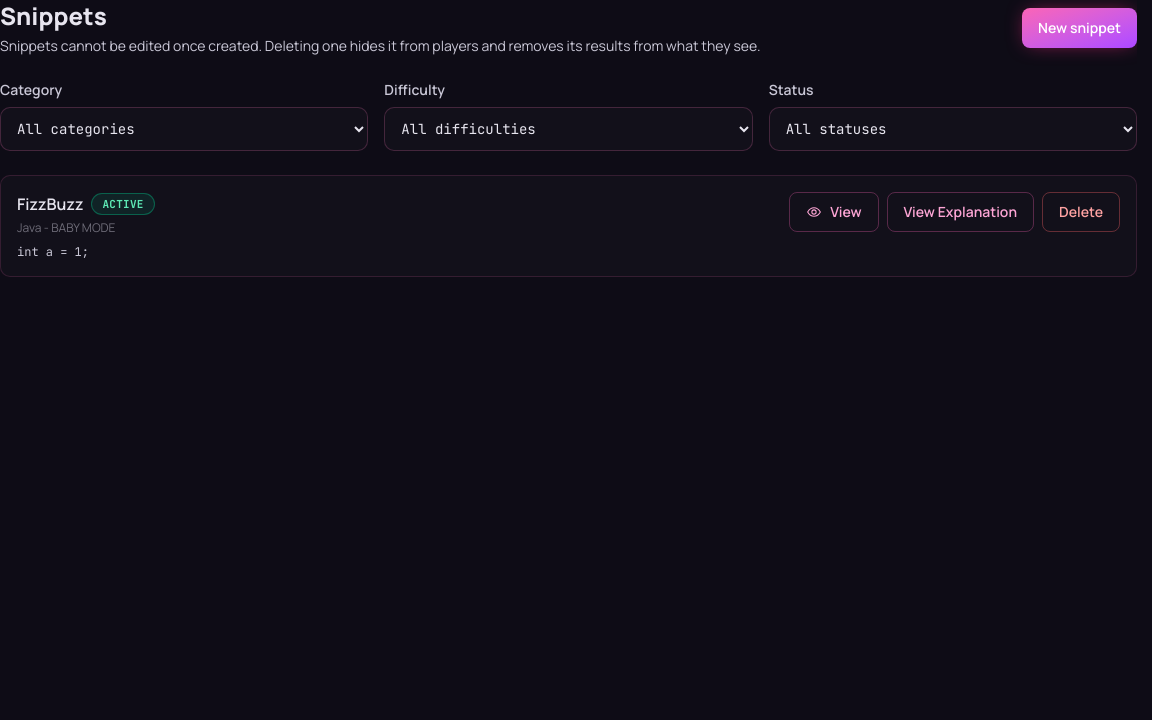
SnippetsPage › reports a delete rejected by the backend
Click the button "Delete" at coordinates (1081, 212), box [1042,192,1120,232]
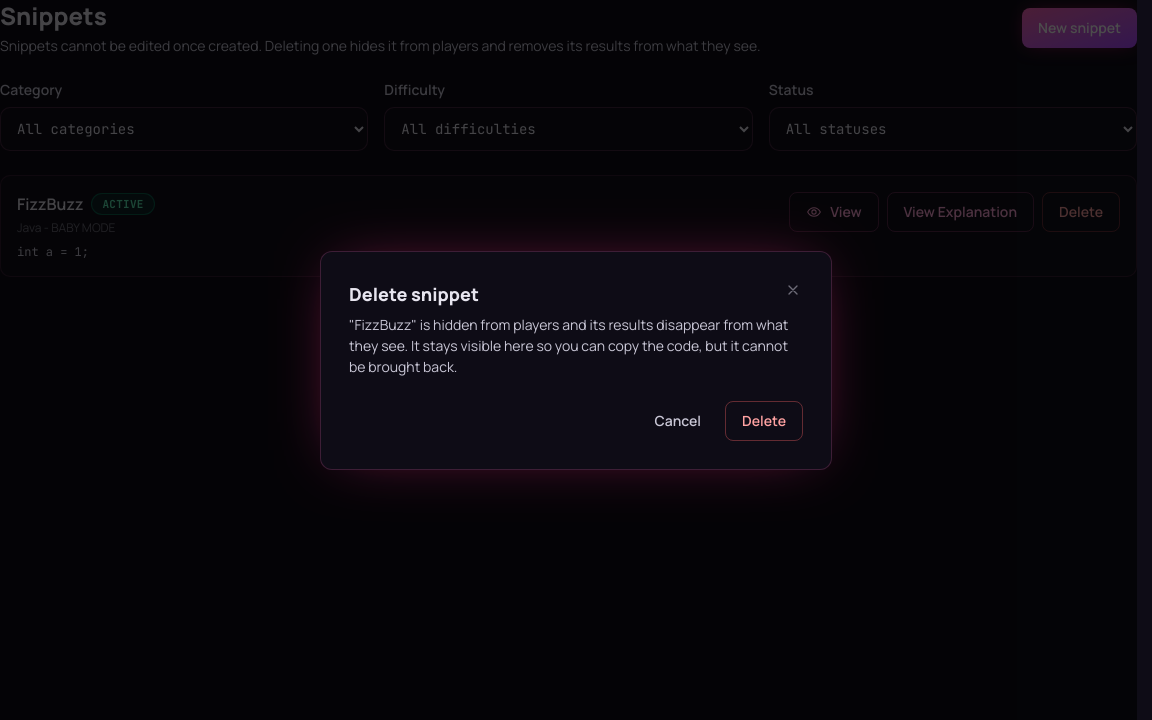
Click the button "Delete" at coordinates (764, 420), box [725,400,803,440]
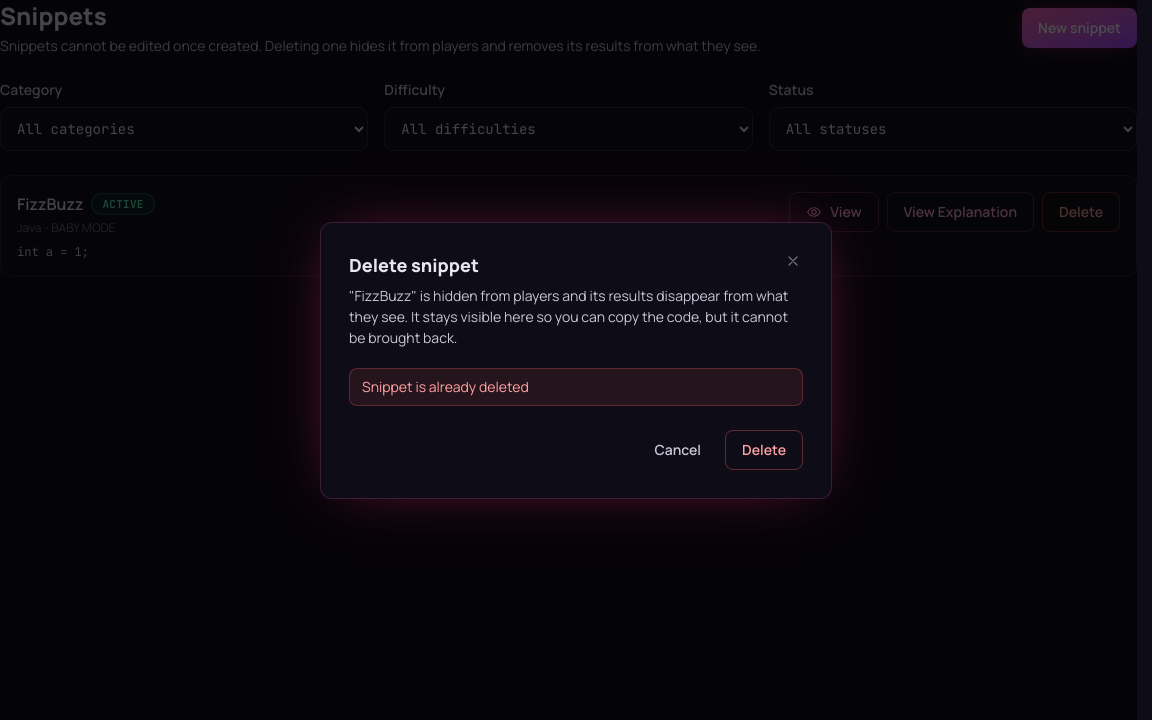
Check: the message shows "already deleted", box [362,376,529,396]
